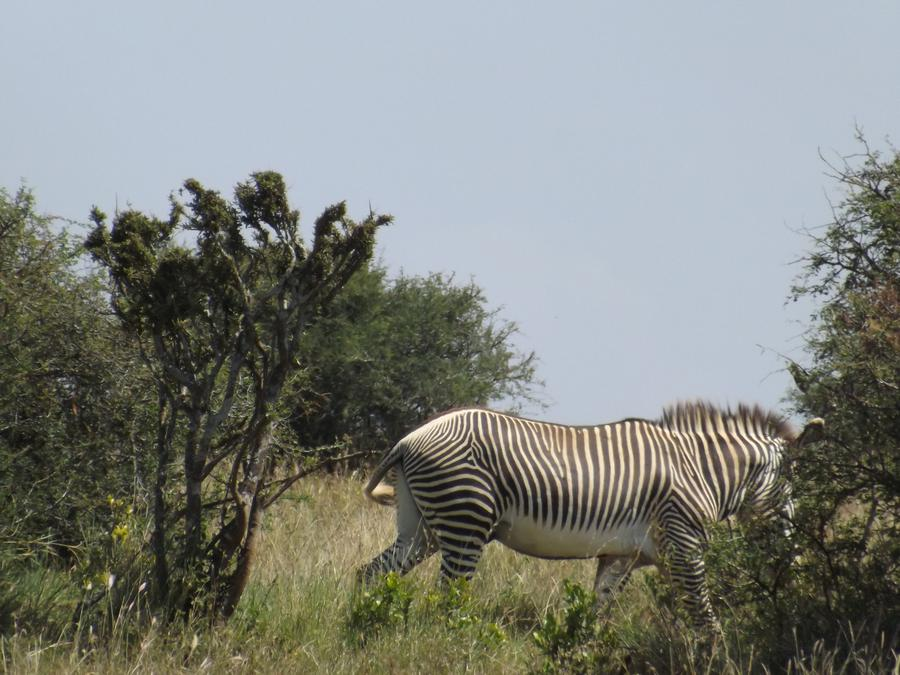zebra_grevys: (381, 382, 712, 568)
